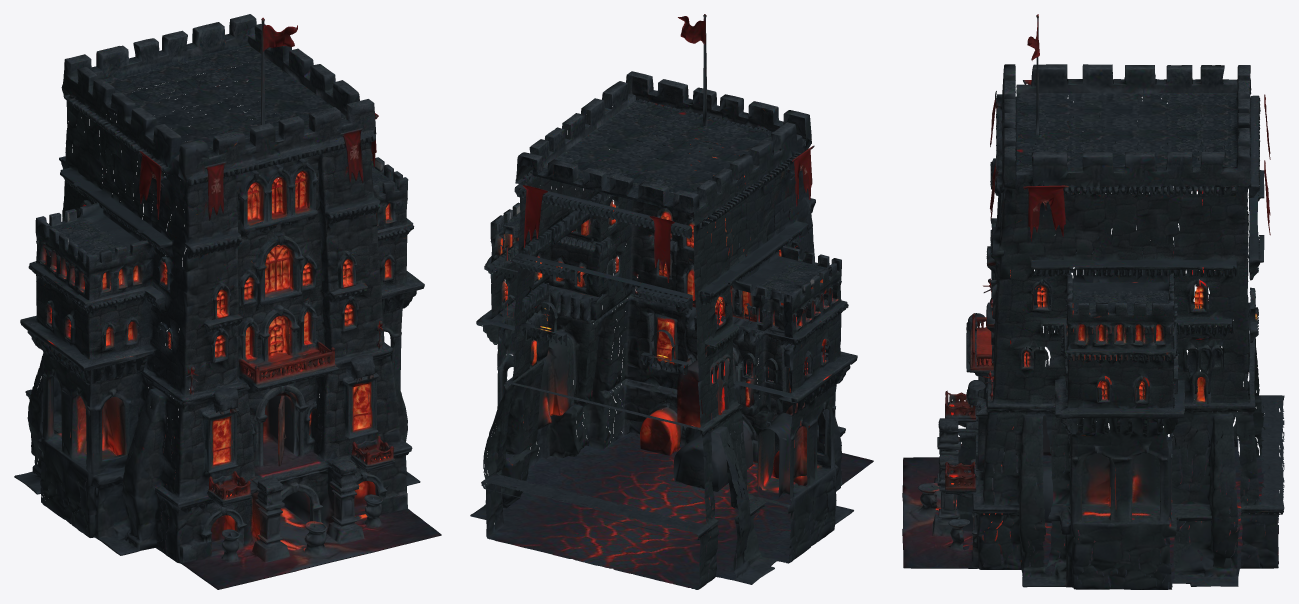
Rendered from volcano_block.glb.
3 views of the same model, side by side, from view 1: azimuth 30°, elevation 25°; view 2: azimuth 150°, elevation 25°; view 3: azimuth 270°, elevation 25° (orthographic). The views are drawn at different scales.
Size of the model in its own units: 1.37 by 1.9 by 1.32.
1 material, 1 textured.
